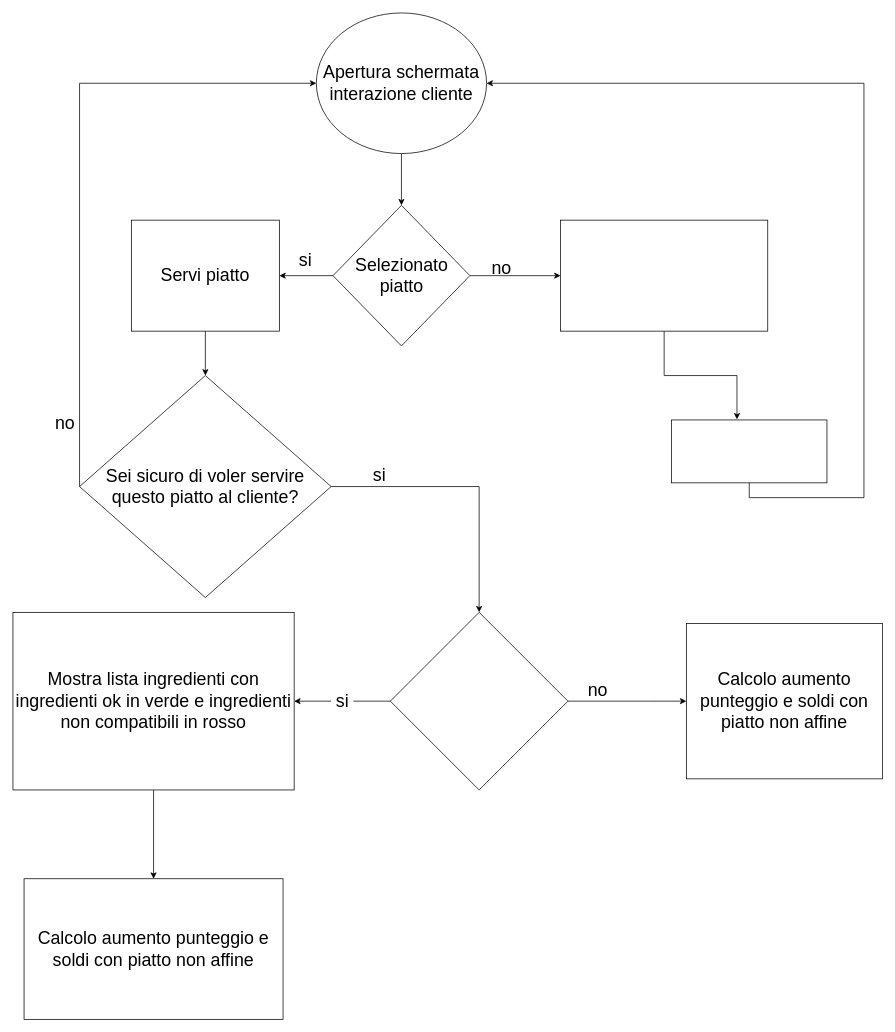
This 895x1032 diagram has some shape labels left out. Each missing label, with the centre of its shape:
Piatto affine al cliente?: (479,701)
Torna indietro: (749,451)
Visualizza ingredienti piatto: (664,275)
